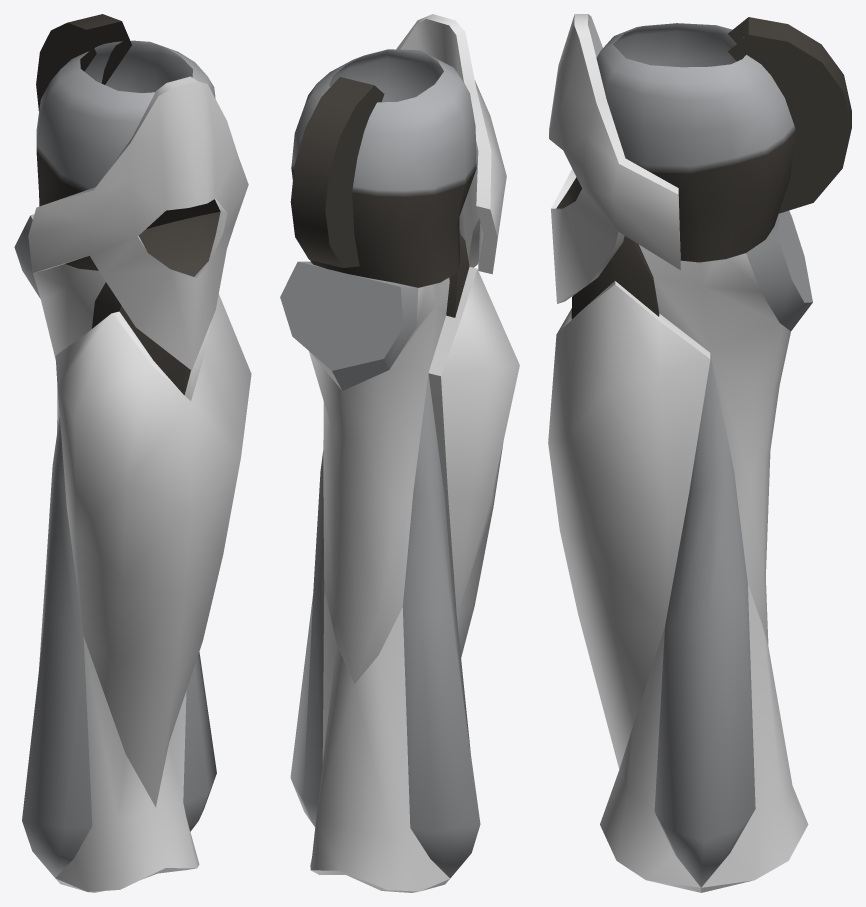
File: ranger_leg.fbx
3 views of the same model, side by side, from view 1: azimuth 30°, elevation 25°; view 2: azimuth 150°, elevation 25°; view 3: azimuth 270°, elevation 25° (orthographic). The views are drawn at different scales.
Visible parts, largest first — view 1: right_leg; view 2: right_leg; view 3: right_leg.
Boxes of the visible parts, x1,y1,x2,y2 form: right_leg: [14, 14, 251, 892]; right_leg: [280, 14, 519, 892]; right_leg: [548, 14, 851, 892].
Size of the model in its own units: 20.49 by 80.09 by 25.98.
